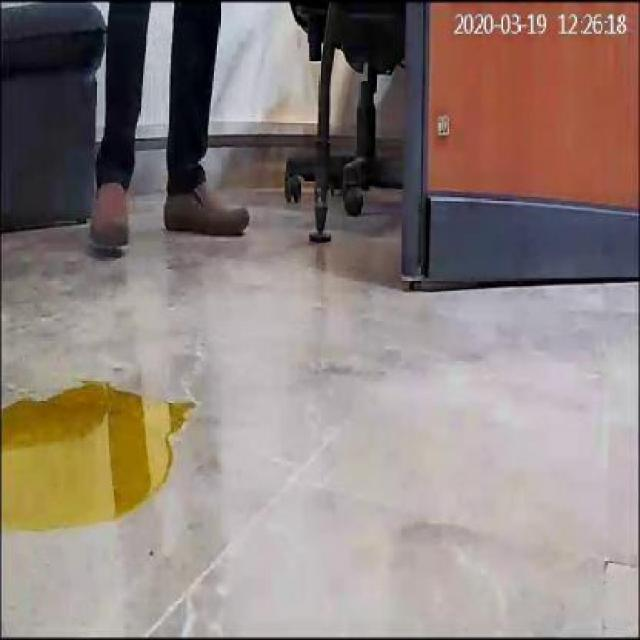spill: (5, 371, 202, 538)
